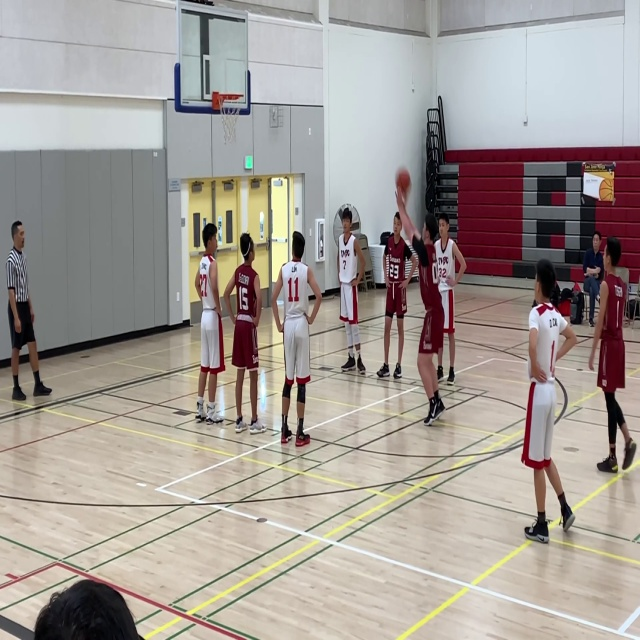Basketball: (395, 168, 411, 191)
